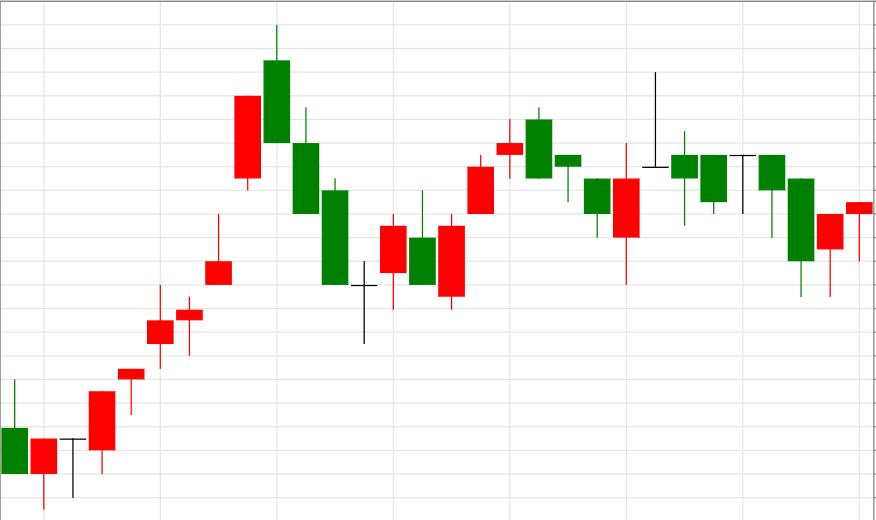three_black_crows_fall: (31, 23, 349, 510)
